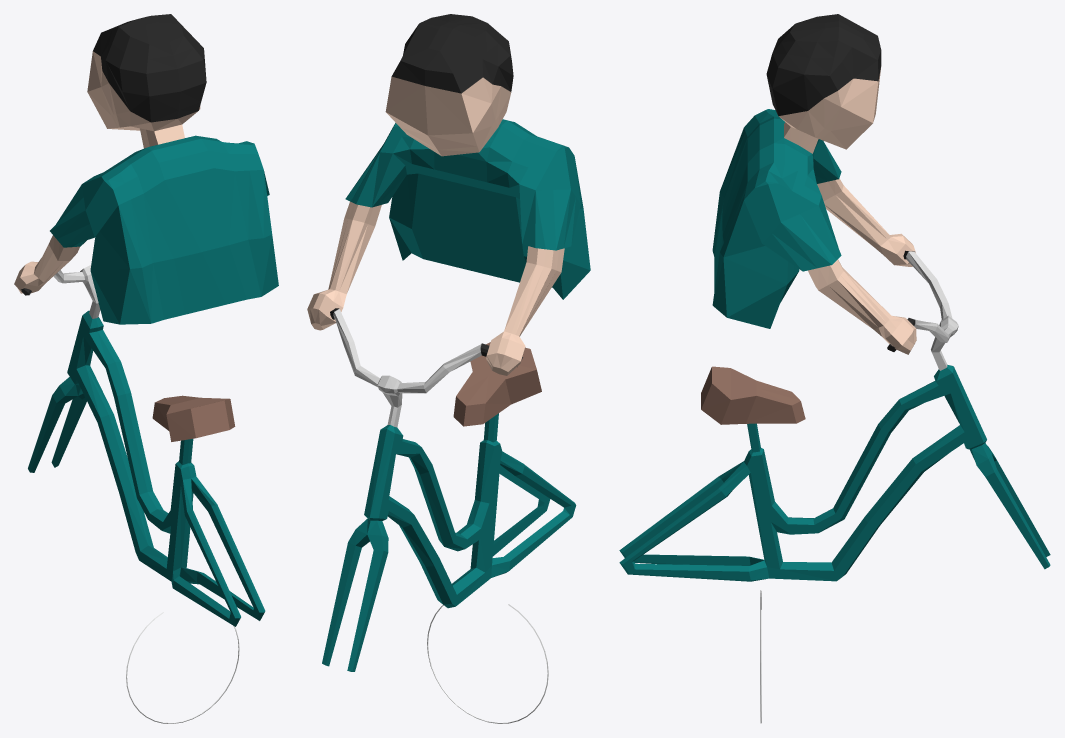
File: bike_frame.dae
3 views of the same model, side by side, from view 1: azimuth 30°, elevation 25°; view 2: azimuth 150°, elevation 25°; view 3: azimuth 270°, elevation 25° (orthographic). The views are drawn at different scales.
Visible parts, largest first — view 1: Cube; view 2: Cube; view 3: Cube.
Boxes of the visible parts, x1,y1,x2,y2 form: Cube: [14, 14, 278, 723]; Cube: [307, 14, 590, 723]; Cube: [619, 14, 1050, 723].
Size of the model in its own units: 3.61 by 6.6 by 11.72.
1 material, 1 textured.
